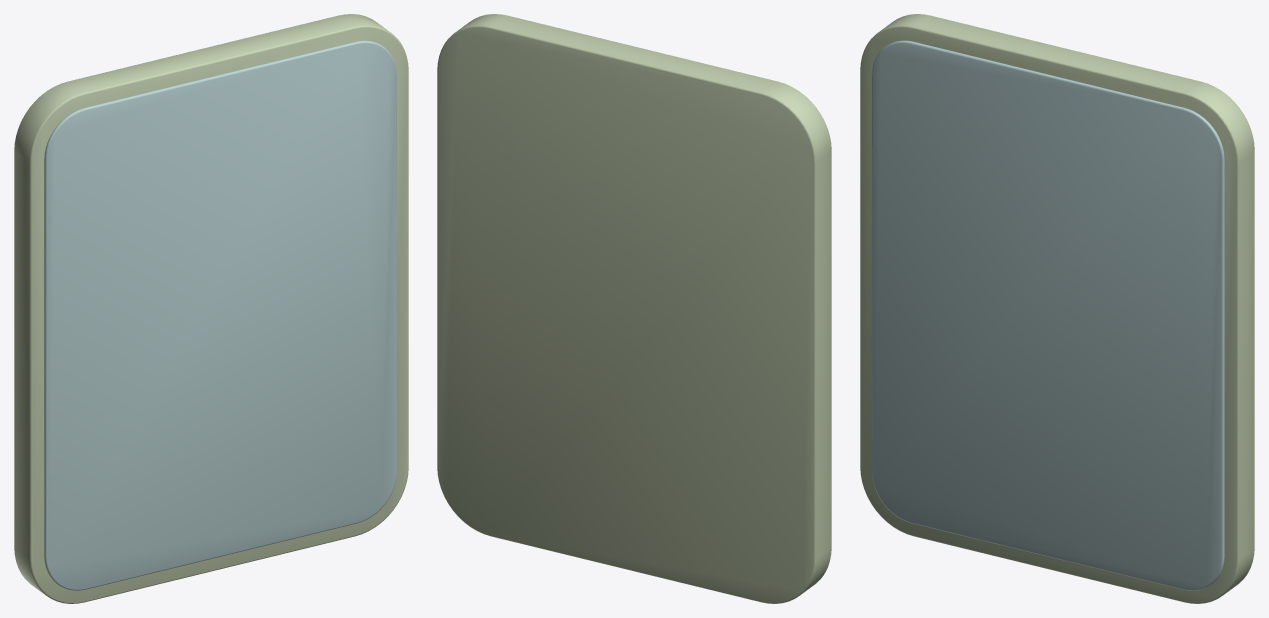
The model's file is bath-mirror-rounded.glb.
The picture shows the model from 3 angles, left to right: view 1: azimuth 30°, elevation 25°; view 2: azimuth 150°, elevation 25°; view 3: azimuth 330°, elevation 25°; orthographic projection.
Visible parts, largest first — view 1: bath-mirror-rounded; view 2: bath-mirror-rounded; view 3: bath-mirror-rounded.
Boxes of the visible parts, x1,y1,x2,y2 form: bath-mirror-rounded: (14,14,408,603); bath-mirror-rounded: (437,14,831,603); bath-mirror-rounded: (860,14,1254,603).
Size of the model in its own units: 0.7 by 0.9 by 0.06.
